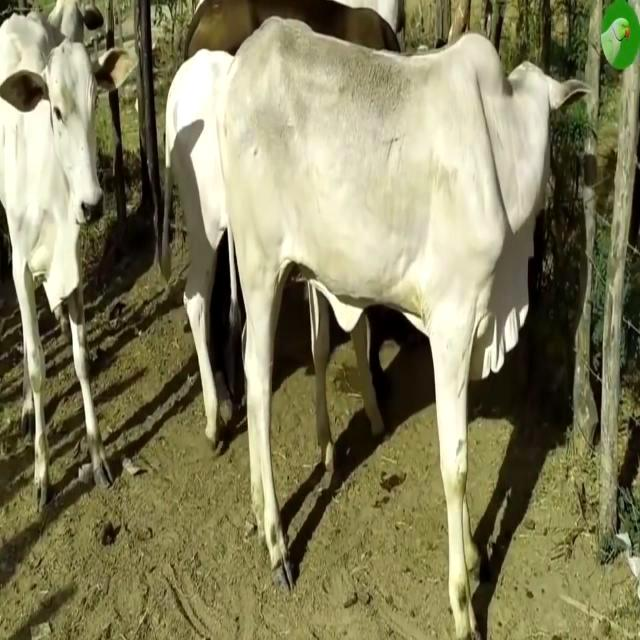COW: (221, 19, 584, 639), (0, 0, 135, 508)
